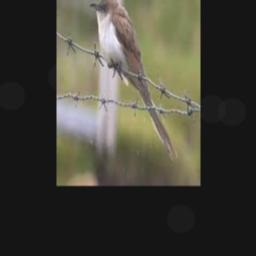Cuckoo: (89, 0, 178, 158)
